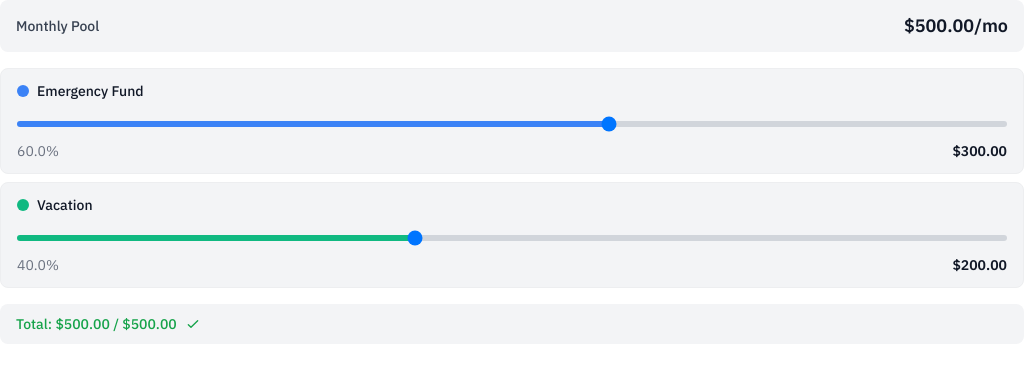
Test case: PoolDistributionEditor › Escape cancels without committing
The image size is (1024, 371).
Click the button "$300.00" at (980,151), box top-left (952, 141), bottom-right (1007, 161)
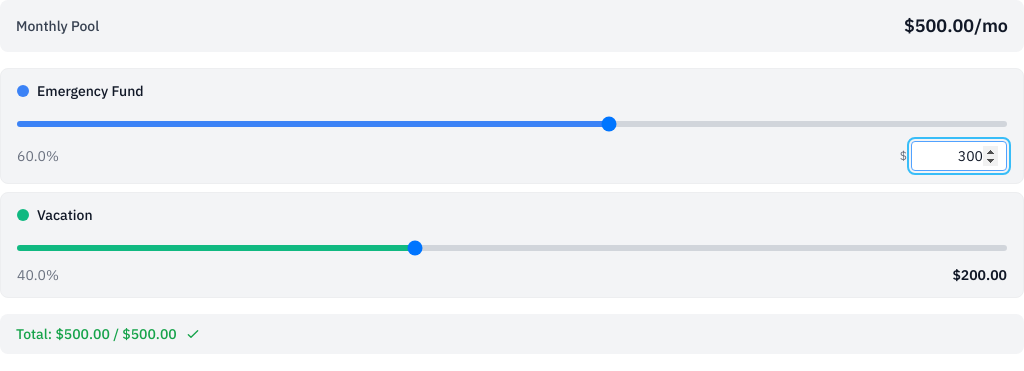
Replace the text in the number field showing "300" with "999" at (959,156), box top-left (911, 141), bottom-right (1007, 171)
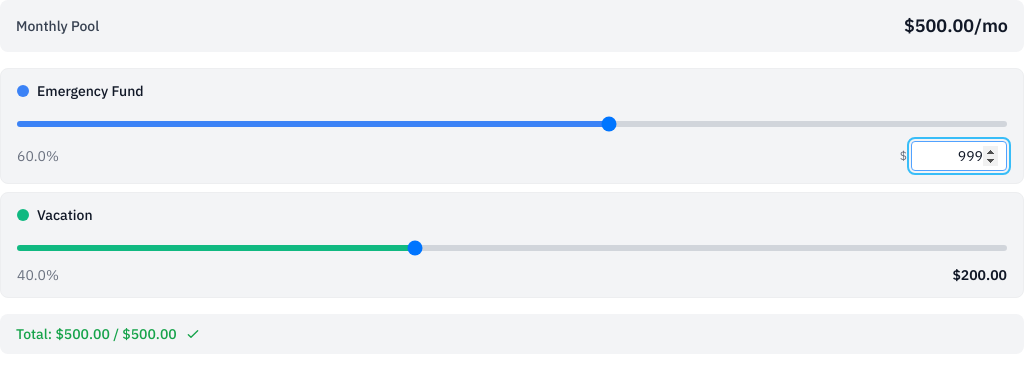
Press Escape in the number field showing "300", box top-left (911, 141), bottom-right (1007, 171)
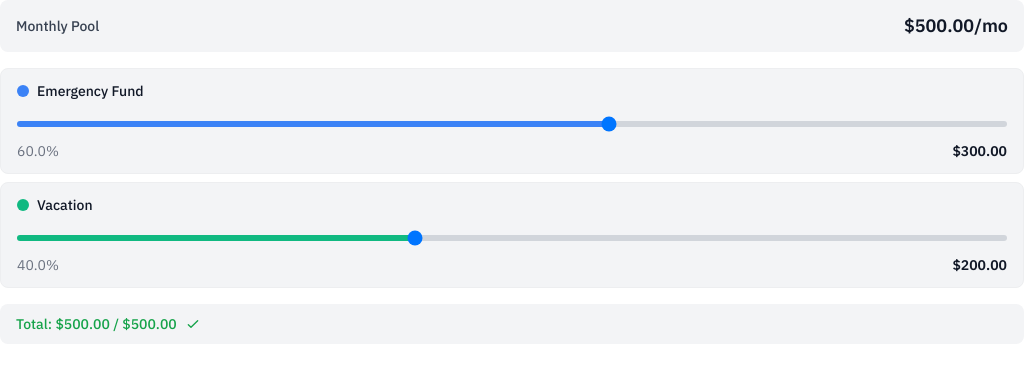
Expected: the button "$300.00" is shown, top-left (952, 141), bottom-right (1007, 161)
